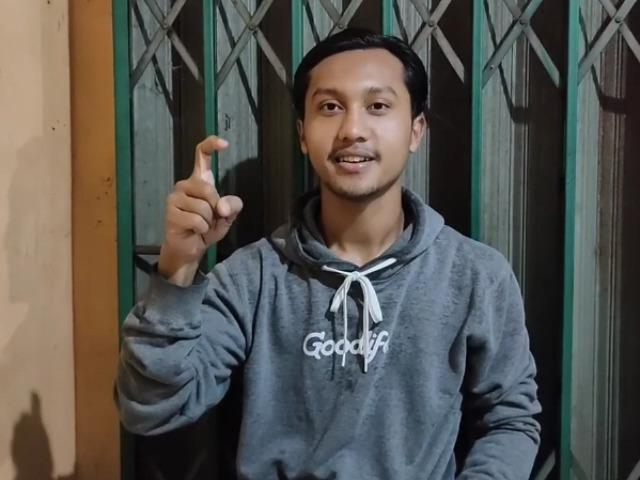X: (164, 128, 242, 253)
